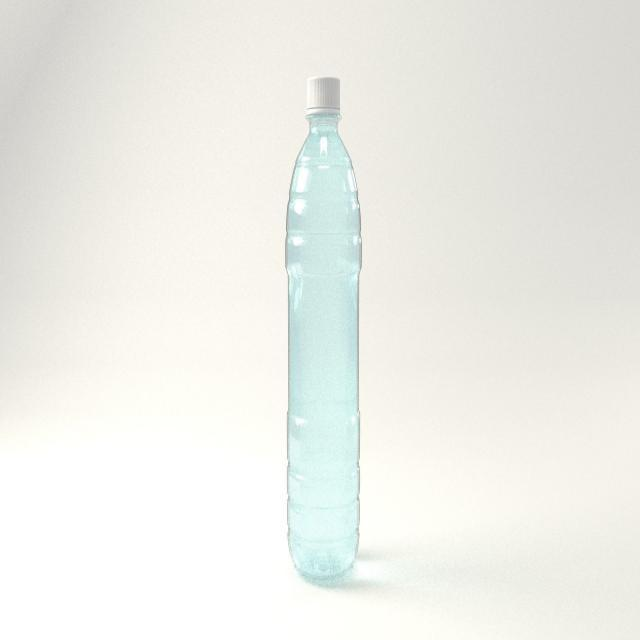chai: (288, 78, 360, 584)
